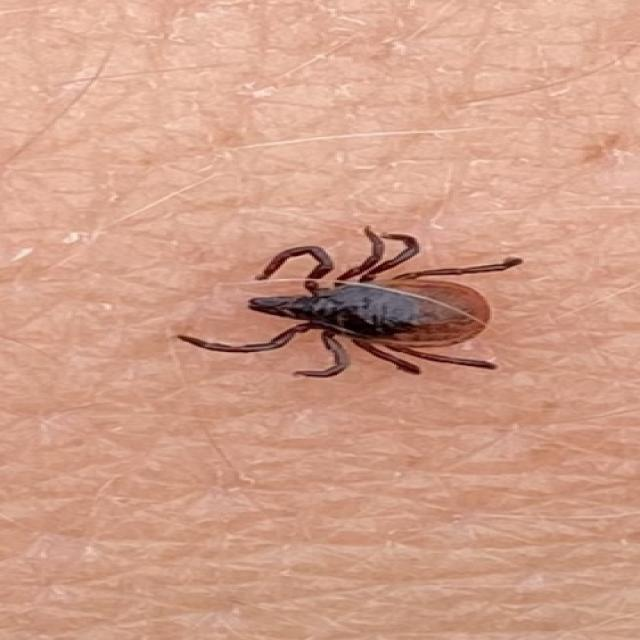Ixodes Ricinus-F: (178, 228, 524, 378)
